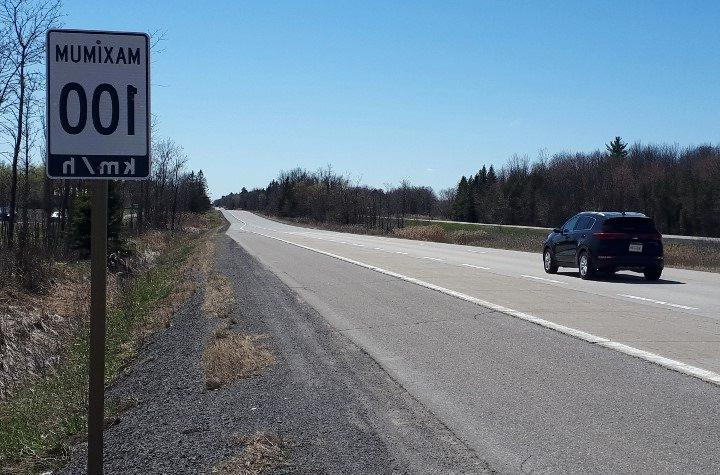speed limit sign: (43, 30, 152, 180)
